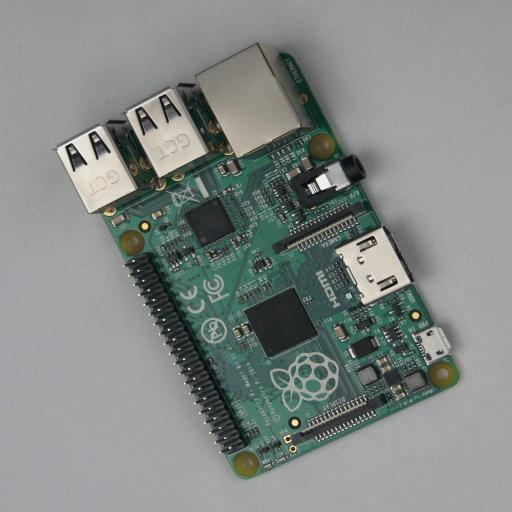Raspberry Pi 1 B-: (56, 43, 460, 479)
